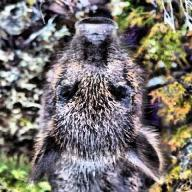boar: (24, 9, 171, 192)
